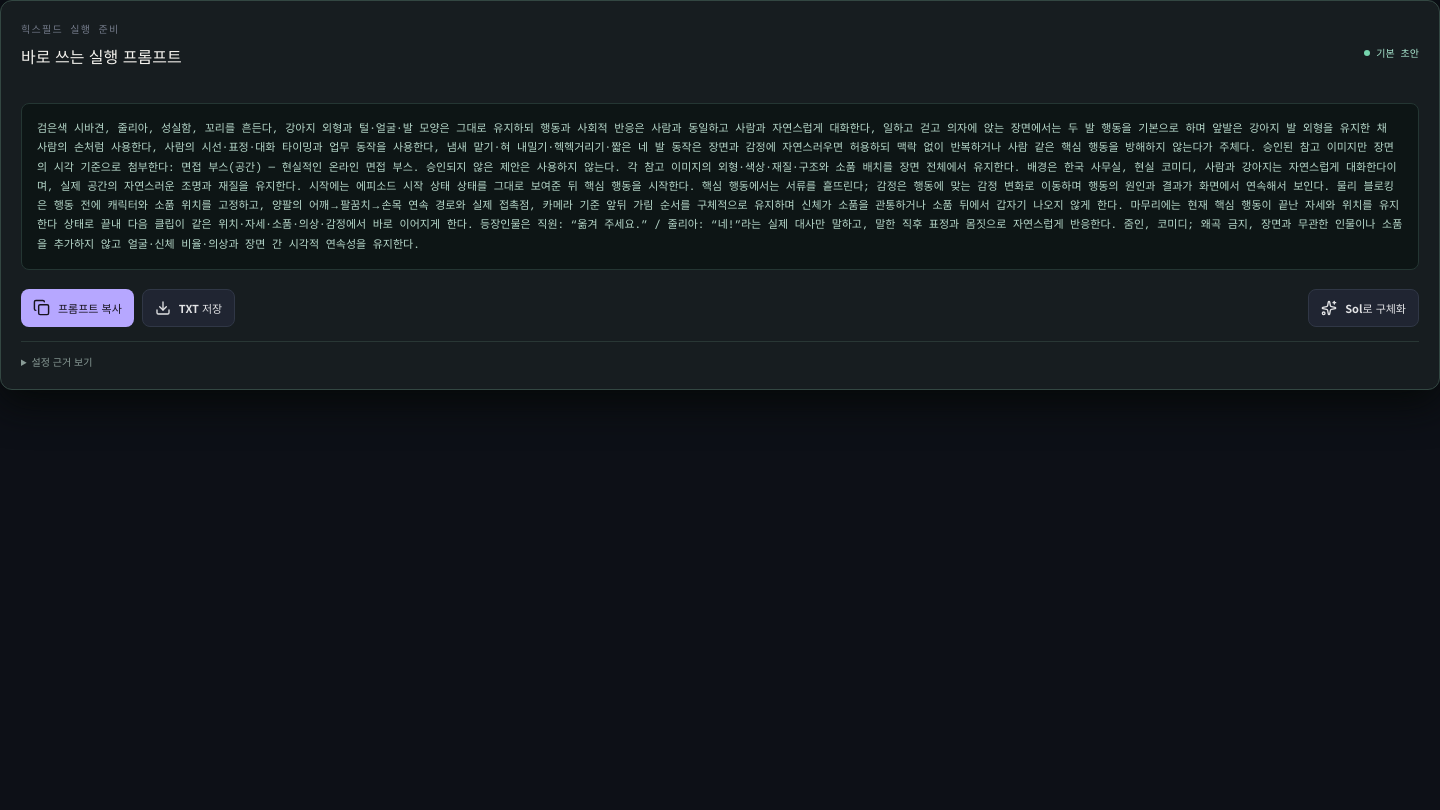
Test case: 힉스필드 프롬프트 제안 패널 › Sol 제안에도 승인된 장면 참고 이미지 규칙을 빠뜨리지 않는다
The width and height of the screenshot is (1440, 810).
Step 1. Click the button "Sol로 구체화" → click(1364, 308), box [1308,289,1419,327]
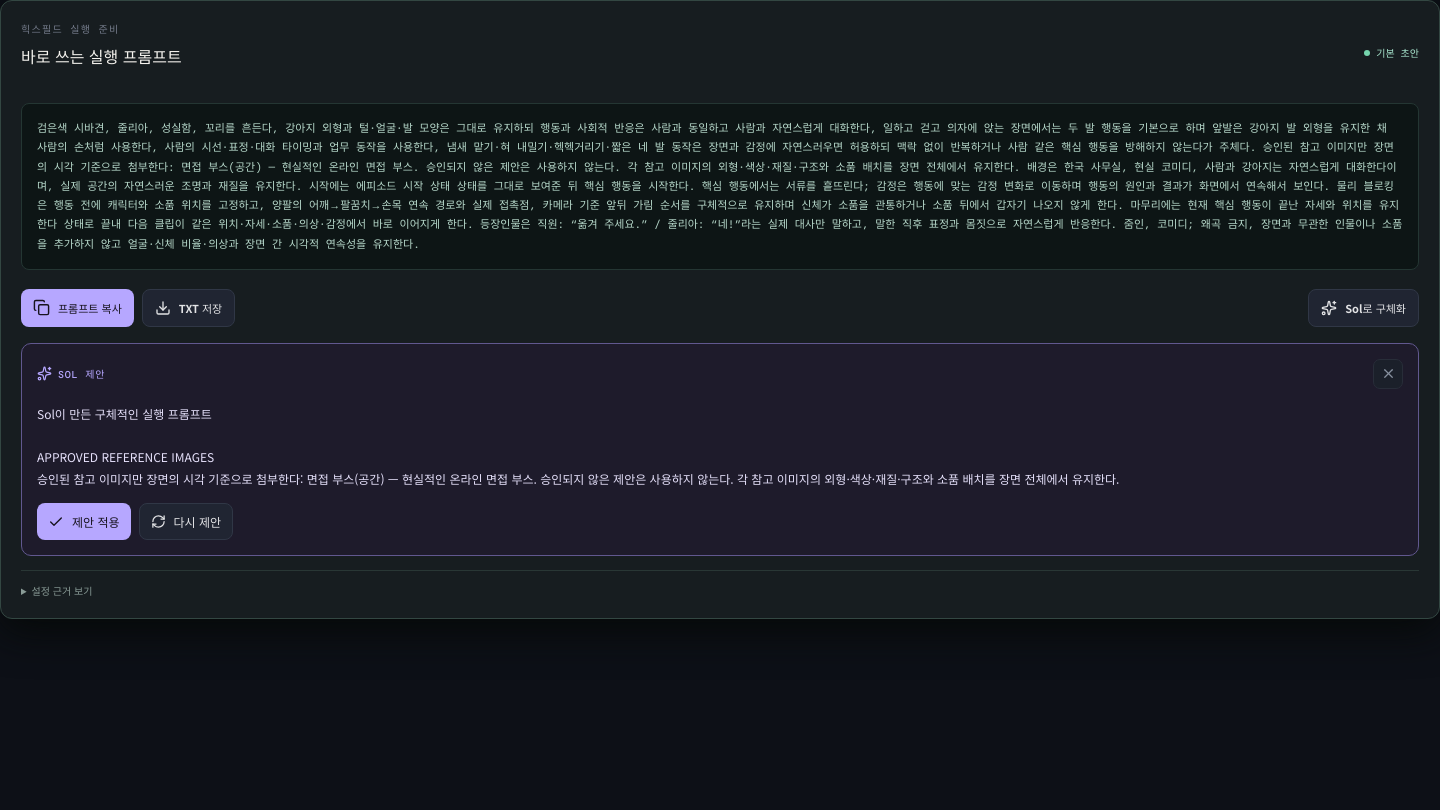
Expected: the text "Sol이 만든 구체적인 실행 프롬프트" is shown, [37,405,1120,487]
Expected: the text "승인된 참고 이미지만" is shown, [37,405,1120,487]
Expected: the text "면접 부스" is shown, [37,405,1120,487]
